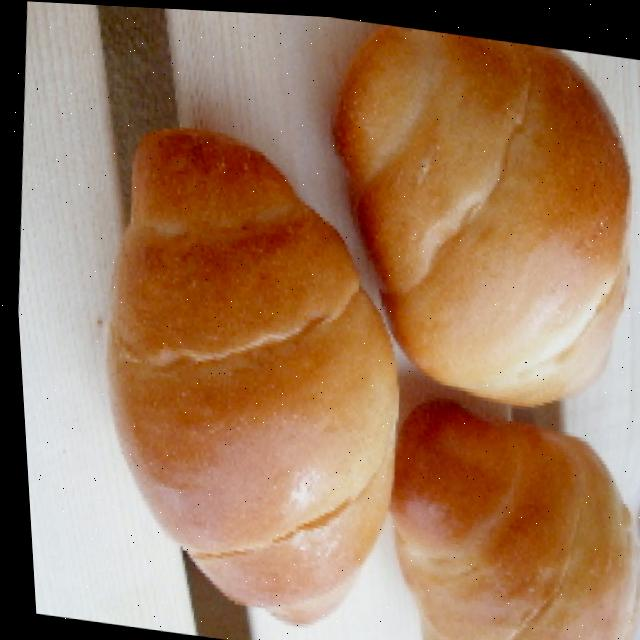面包点心: (62, 3, 640, 640)
